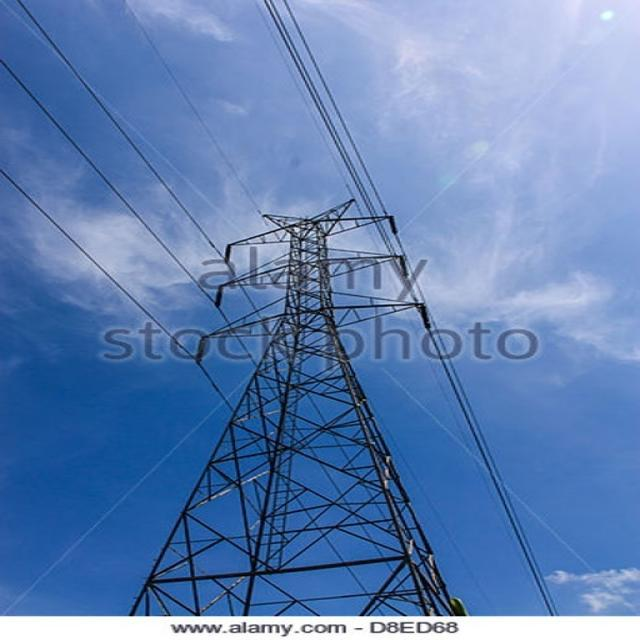non-critical vegetation: (161, 202, 474, 560)
